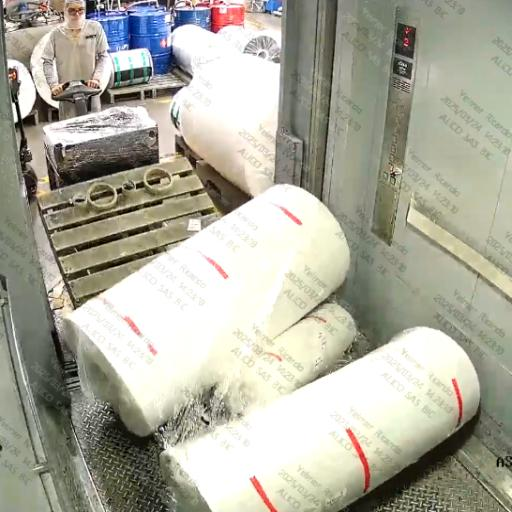rollos caidos: (32, 77, 498, 512)
